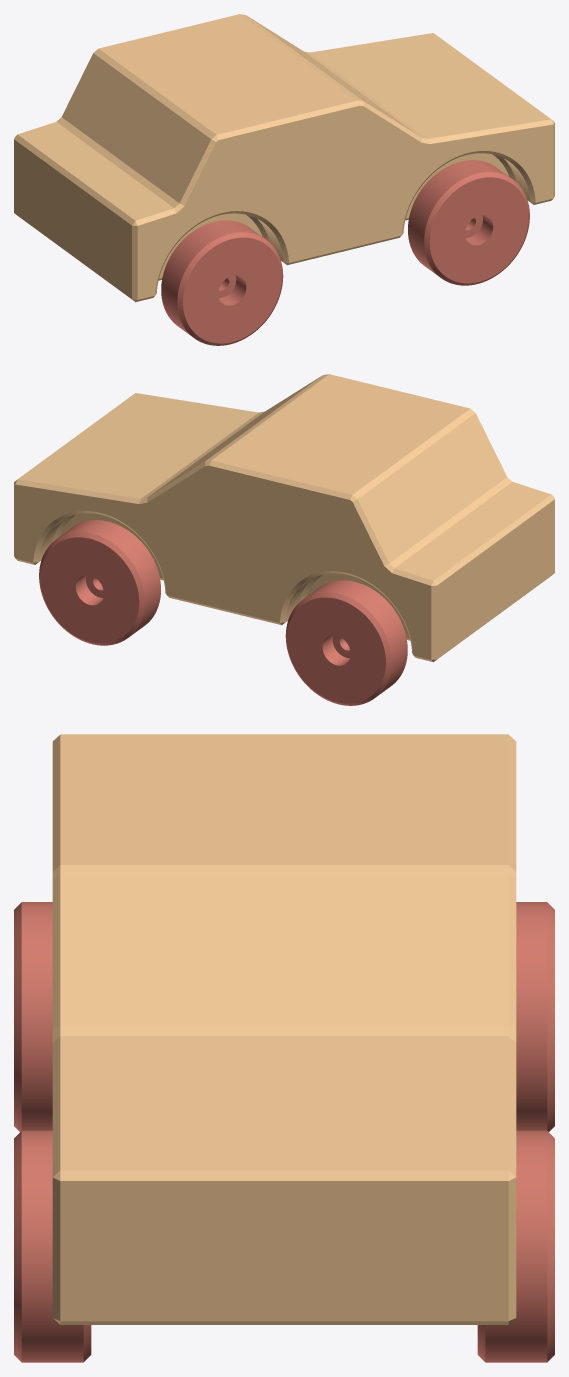
3 renders of one model, top to bottom at view 1: azimuth 30°, elevation 25°; view 2: azimuth 150°, elevation 25°; view 3: azimuth 270°, elevation 25°, orthographic. The views are drawn at different scales.
Parts seen in each view (by area): view 1: out.chassis, out.rear_axle.left_wheel, out.front_axle.left_wheel; view 2: out.chassis, out.rear_axle.right_wheel, out.front_axle.right_wheel; view 3: out.chassis, out.front_axle.left_wheel, out.front_axle.right_wheel, out.rear_axle.left_wheel, out.rear_axle.right_wheel.
Part boxes in pixels (x1,y1,x2,y2): out.chassis: (14,14,554,302); out.rear_axle.left_wheel: (161,220,283,345); out.front_axle.left_wheel: (408,160,529,285); out.chassis: (14,374,554,662); out.rear_axle.right_wheel: (285,580,407,705); out.front_axle.right_wheel: (39,520,160,645); out.chassis: (52,734,516,1324); out.front_axle.left_wheel: (14,1130,91,1362); out.front_axle.right_wheel: (477,1130,554,1362); out.rear_axle.left_wheel: (14,902,52,1131); out.rear_axle.right_wheel: (516,902,554,1131).
Size of the model in its own units: 0.12 by 0.055 by 0.07.
